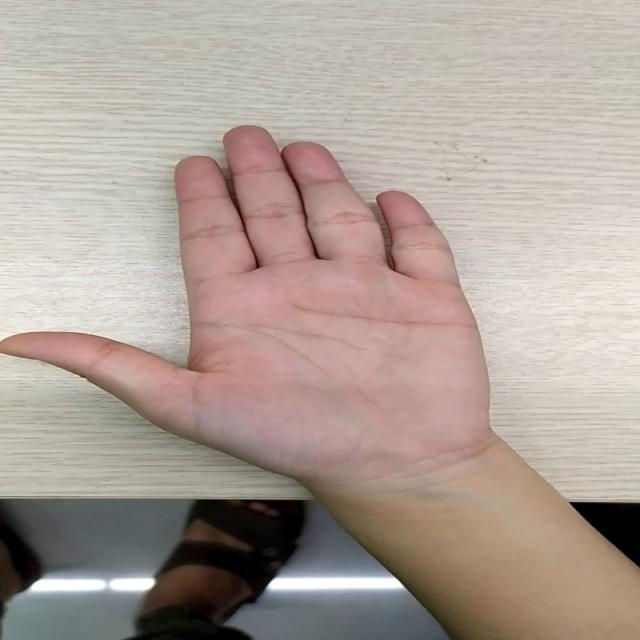hand: (21, 129, 493, 463)
